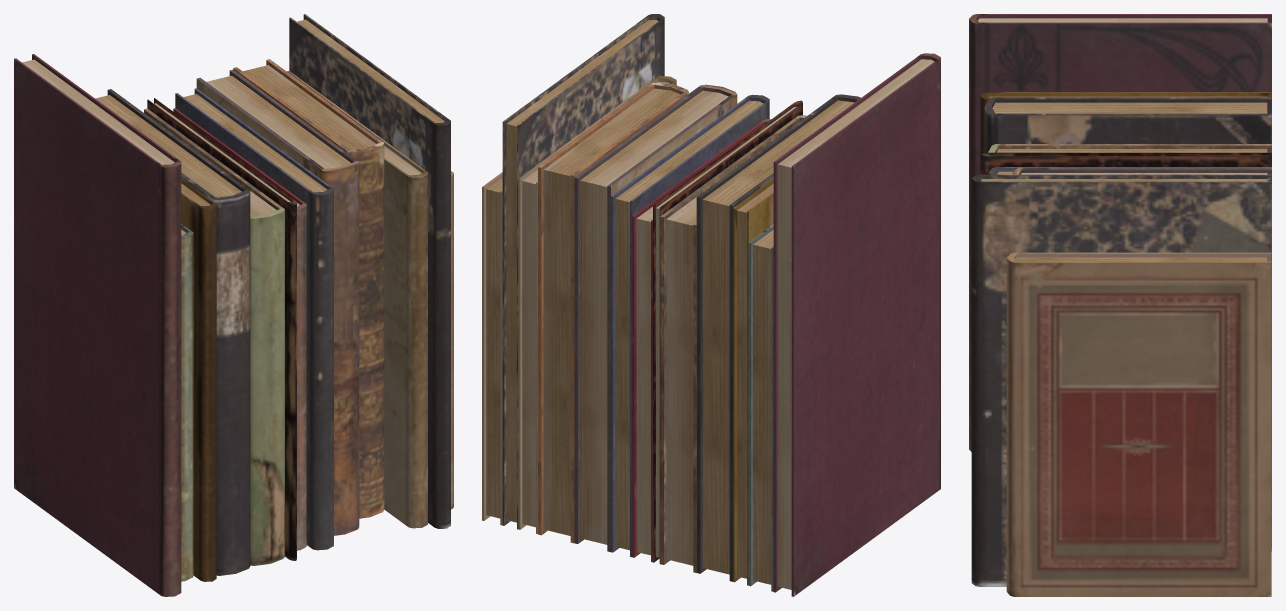
The model's file is SM_Book_Old.fbx.
3 views of the same model, side by side, from view 1: azimuth 30°, elevation 25°; view 2: azimuth 150°, elevation 25°; view 3: azimuth 270°, elevation 25° (orthographic).
Parts seen in each view (by area): view 1: SM_Book_Old; view 2: SM_Book_Old; view 3: SM_Book_Old.
Part boxes in pixels (x1=…): SM_Book_Old: x1=14, y1=14, x2=453, y2=596; SM_Book_Old: x1=482, y1=14, x2=940, y2=596; SM_Book_Old: x1=969, y1=14, x2=1271, y2=596.
Size of the model in its own units: 0.2855 by 0.3765 by 0.2399.
